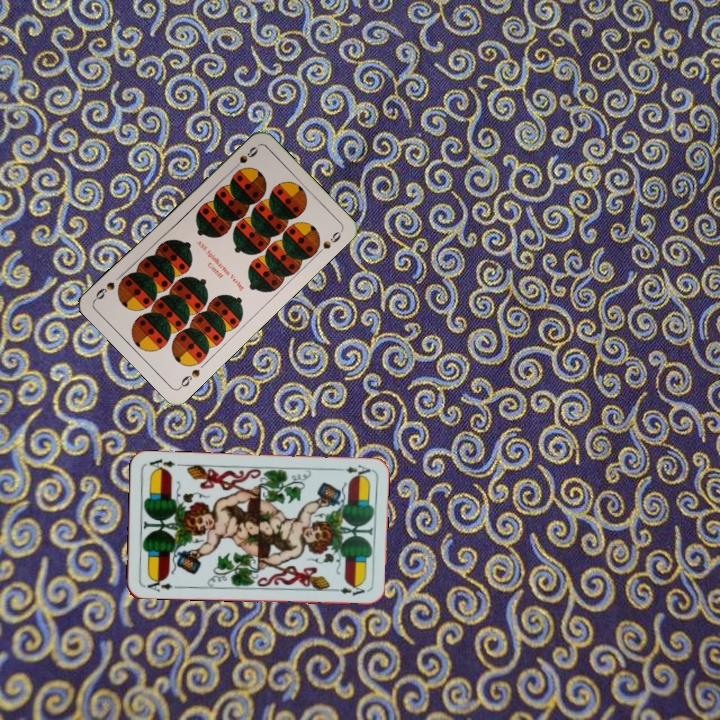EA: (333, 460, 373, 480), (141, 574, 175, 594)
S9: (227, 142, 261, 174), (175, 365, 202, 391)
